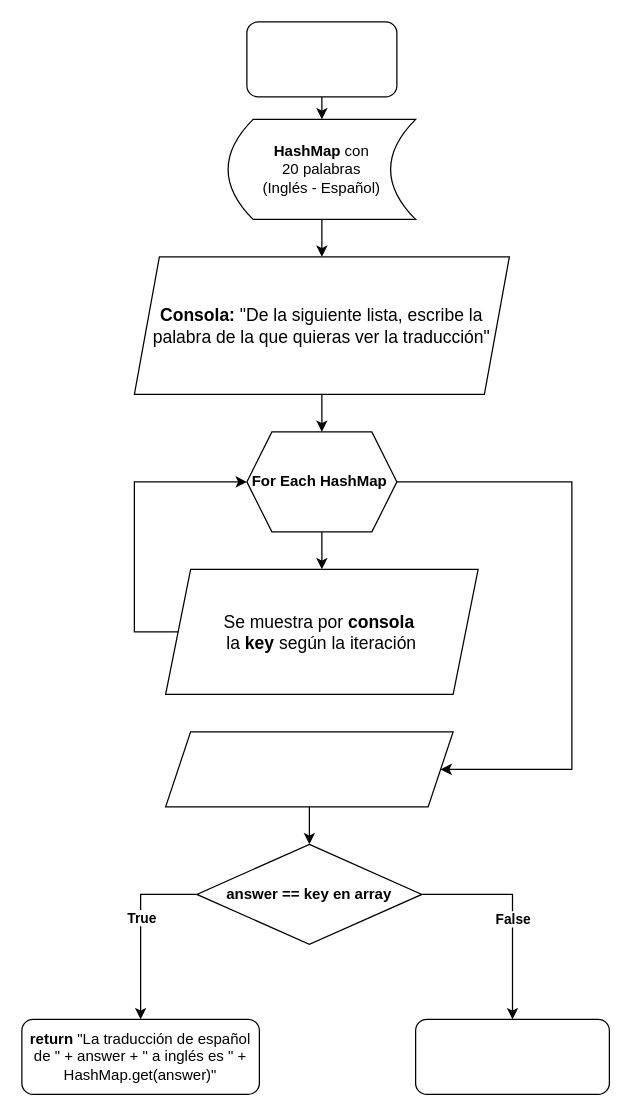
Some shapes in this 631 by 1116 pixel diagram are drawn without their labels. Each missing label, with the centre of its shape:
INICIO: point 321,59
Input: answer Input se guarda en la variable answer: point 308,769
return "La palabra no se encuentra en el diccionario": point 511,1056
